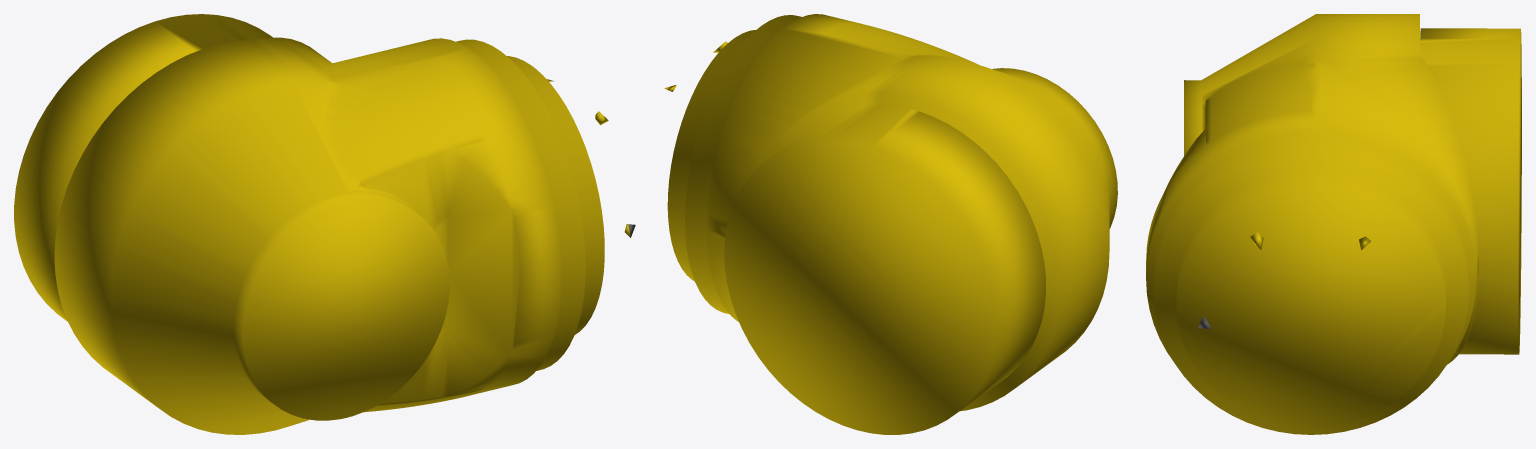
3 renders of one model, left to right at view 1: azimuth 30°, elevation 25°; view 2: azimuth 150°, elevation 25°; view 3: azimuth 270°, elevation 25°, orthographic. The views are drawn at different scales.
Parts seen in each view (by area): view 1: kr60_6; view 2: kr60_6; view 3: kr60_6.
Part boxes in pixels (x1,y1,x2,y2): kr60_6: (14, 14, 635, 434); kr60_6: (664, 14, 1117, 434); kr60_6: (1146, 14, 1521, 434).
Bounding box in the file's own units: 69 × 48.57 × 51.52.
